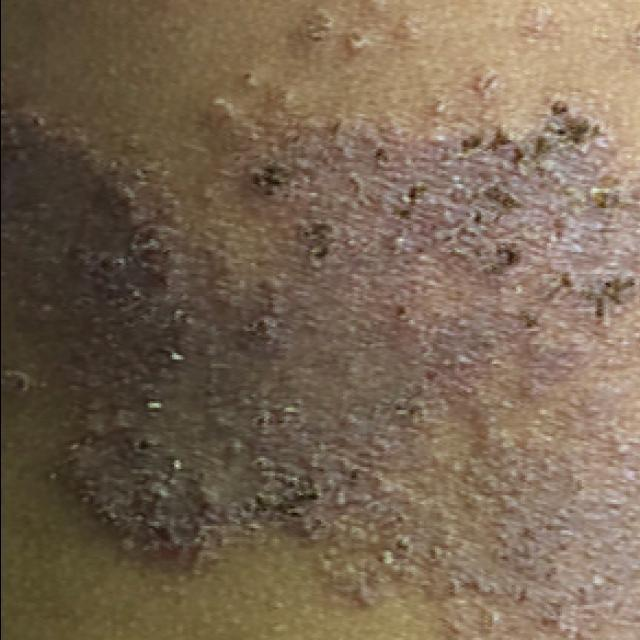Psoriasis: (0, 15, 640, 638)
